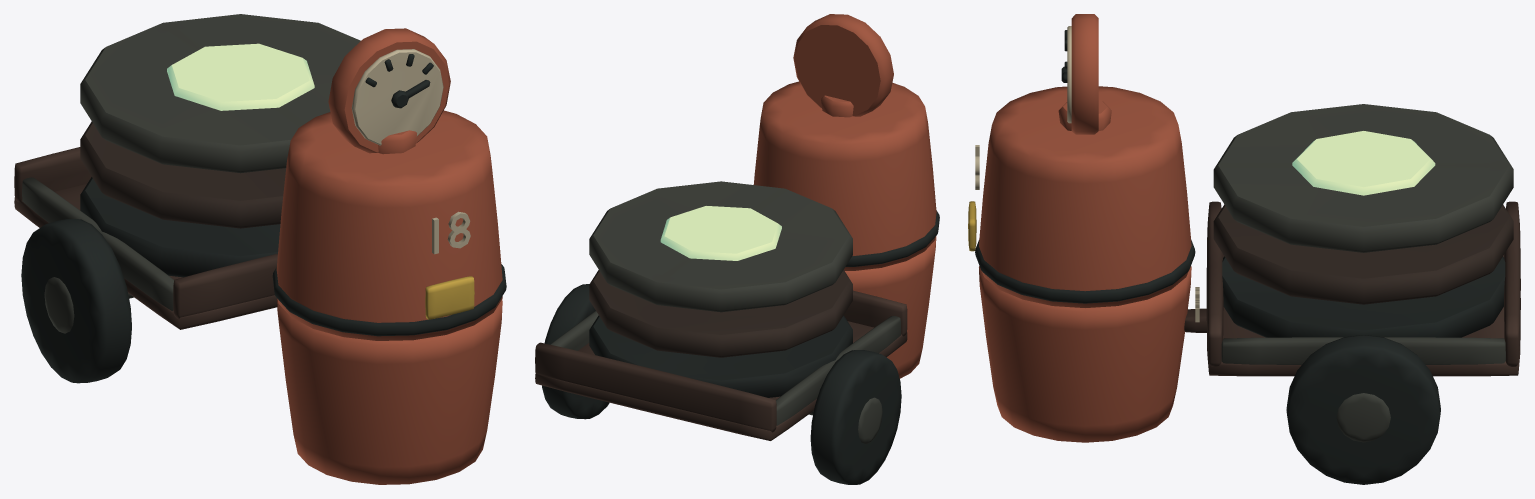
The model's file is enemy_mag_trapper.glb.
The picture shows the model from 3 angles, left to right: view 1: azimuth 30°, elevation 25°; view 2: azimuth 150°, elevation 25°; view 3: azimuth 270°, elevation 25°; orthographic projection. The views are drawn at different scales.
Visible parts, largest first — view 1: MagTrapperBody, MagTopDisc, MagDiscs; view 2: MagTrapperBody, MagTopDisc, MagDiscs; view 3: MagTrapperBody, MagTopDisc, MagDiscs.
Part boxes in pixels (x1,y1,x2,y2): MagTrapperBody: (14, 28, 506, 484); MagTopDisc: (80, 14, 360, 173); MagDiscs: (80, 121, 286, 277); MagTrapperBody: (535, 14, 939, 484); MagTopDisc: (589, 181, 852, 312); MagDiscs: (589, 270, 852, 397); MagTrapperBody: (968, 14, 1520, 484); MagTopDisc: (1213, 104, 1513, 252); MagDiscs: (1213, 204, 1513, 337).
Bounding box in the file's own units: 2.78 × 3 × 3.87.
